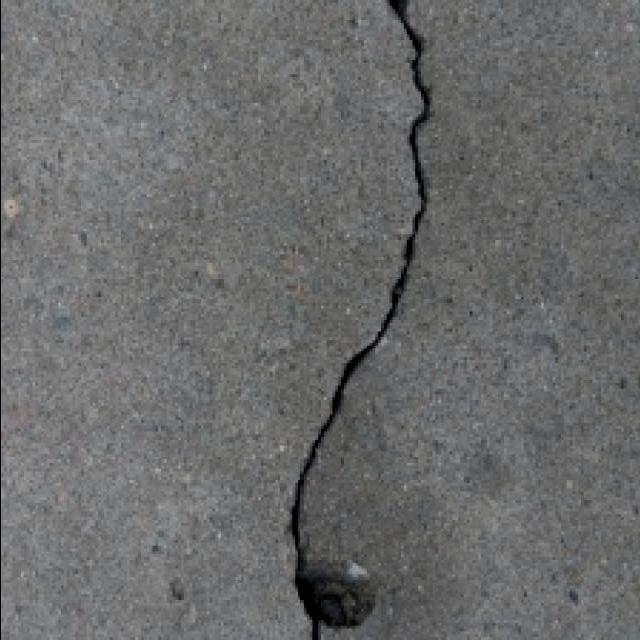SurfaceCrack: (252, 0, 460, 640)
